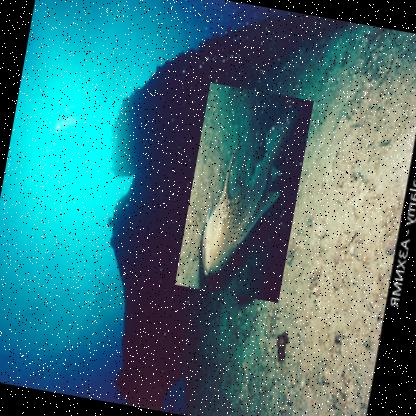zebra_shark: (173, 82, 313, 304)
